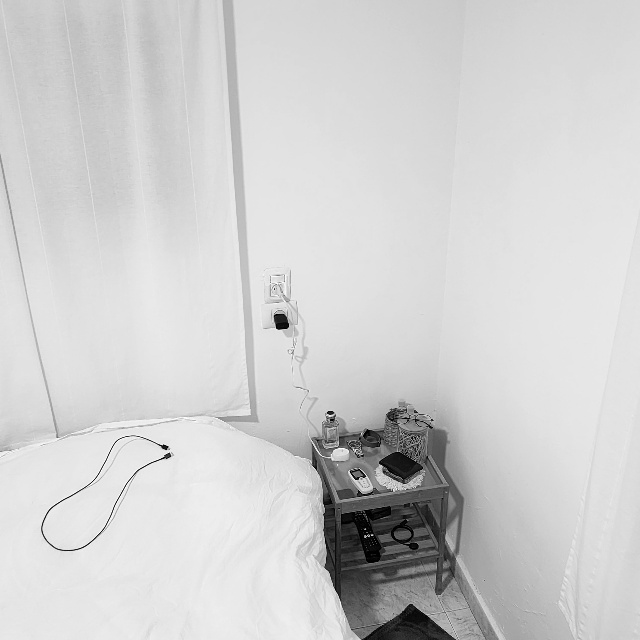glasses: (390, 406, 437, 432)
